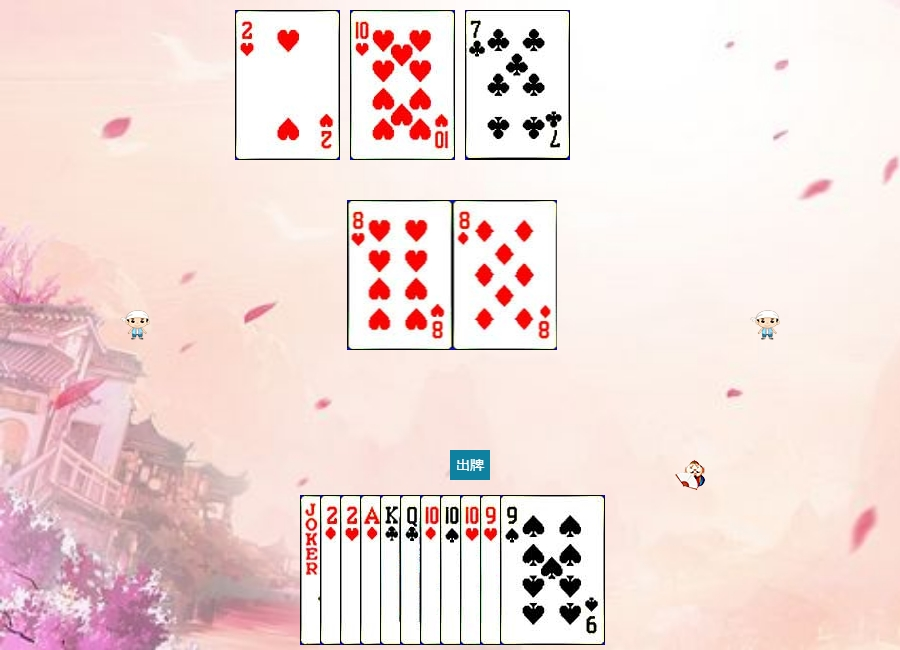10~1: (420, 495, 525, 645)
10~3: (350, 10, 455, 160), (460, 495, 565, 645)
10~4: (440, 495, 545, 645)
12~2: (400, 495, 505, 645)
13~2: (380, 495, 485, 645)
14~1: (360, 495, 465, 645)
15~1: (320, 495, 425, 645)
15~3: (235, 10, 340, 160), (340, 495, 445, 645)
18~4: (300, 495, 405, 645)
7~2: (465, 10, 570, 160)
8~1: (453, 200, 558, 350)
8~3: (348, 200, 453, 350)
9~3: (480, 495, 585, 645)
9~4: (500, 495, 605, 645)
